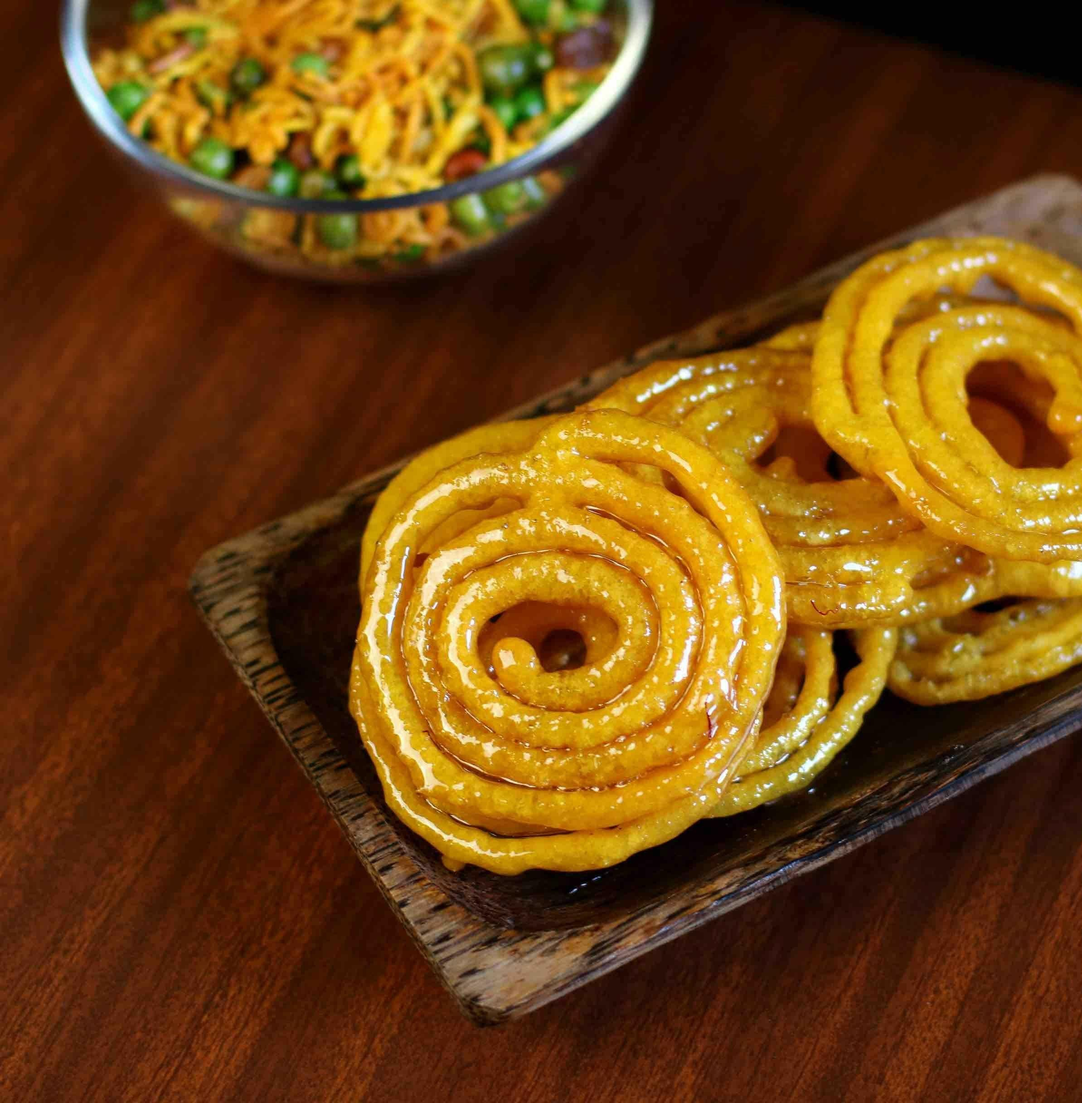Jalebi: (351, 232, 1082, 876)
